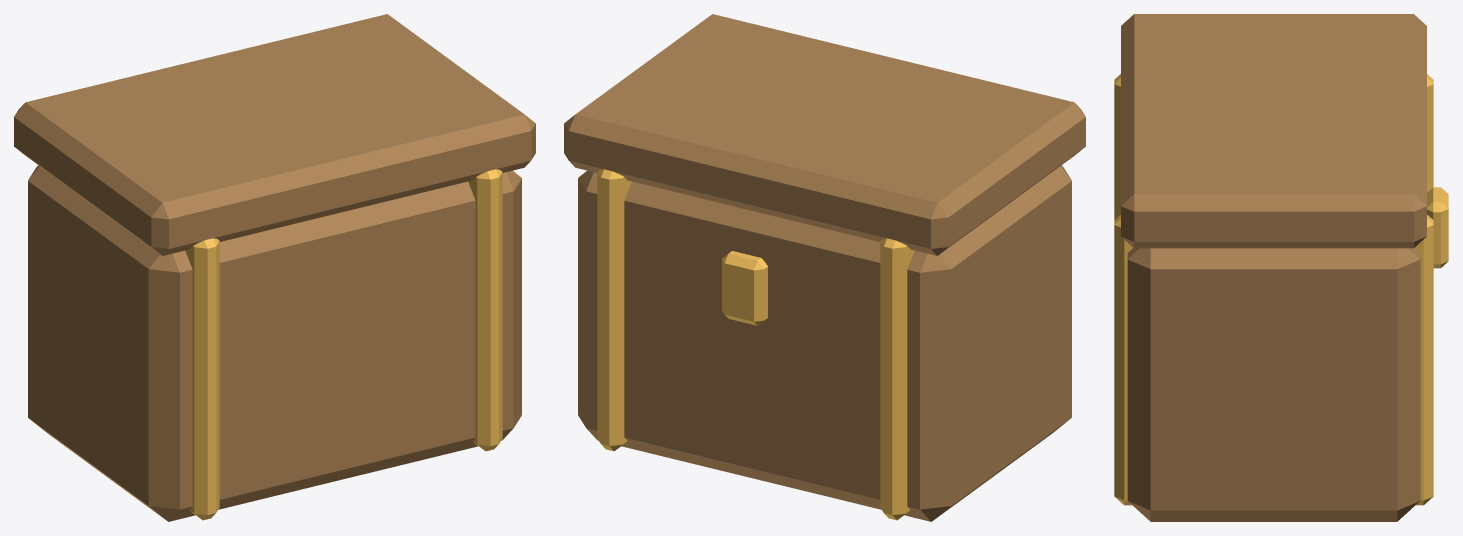
The model's file is bau_fechado.glb.
3 renders of one model, left to right at view 1: azimuth 30°, elevation 25°; view 2: azimuth 150°, elevation 25°; view 3: azimuth 270°, elevation 25°, orthographic.
Parts seen in each view (by area): view 1: deserto_bau_fechado; view 2: deserto_bau_fechado; view 3: deserto_bau_fechado.
Boxes of the visible parts, x1,y1,x2,y2 form: deserto_bau_fechado: (14,14,535,521); deserto_bau_fechado: (564,14,1085,521); deserto_bau_fechado: (1114,14,1448,521).
Size of the model in its own units: 0.68 by 0.555 by 0.5025.
